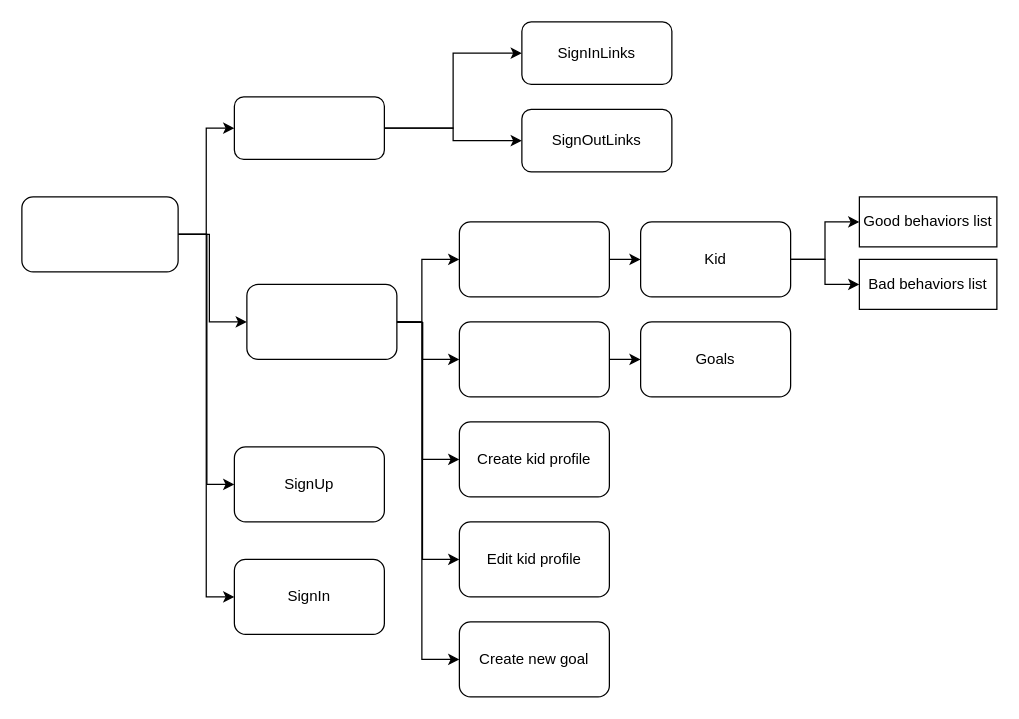
This 1019x719 diagram has some shape labels left out. The box of each missing label's shape, as (x1, y1, x2, y2) in pixels:
App: (21, 196, 178, 272)
Kid Details: (458, 321, 609, 397)
Kid List: (458, 221, 609, 297)
Navbar: (233, 96, 384, 159)
Parent Dashboard: (246, 283, 397, 359)
